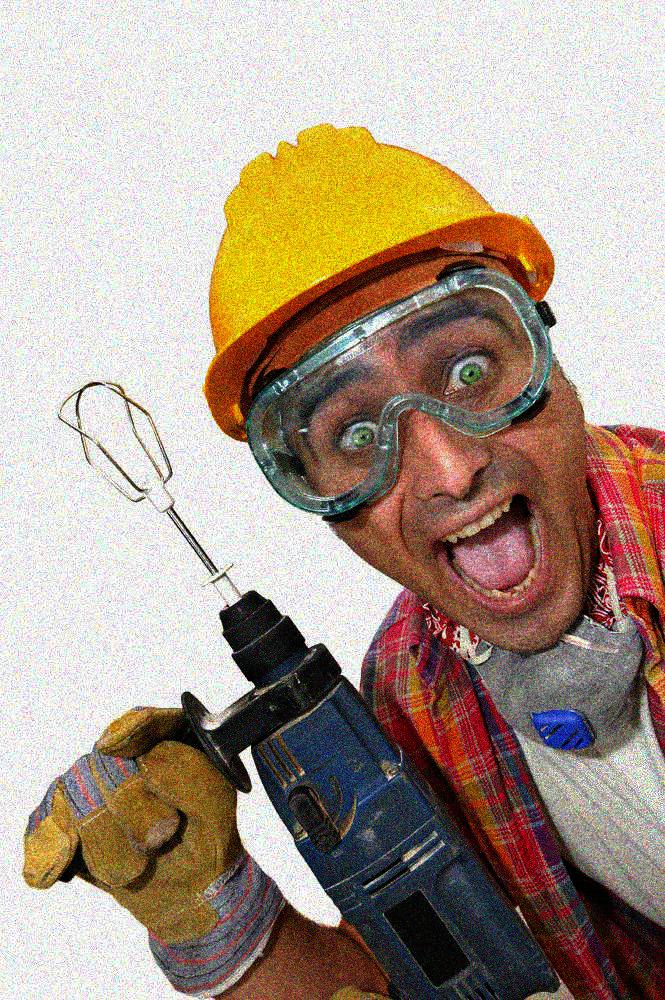helmet: (189, 118, 606, 653)
